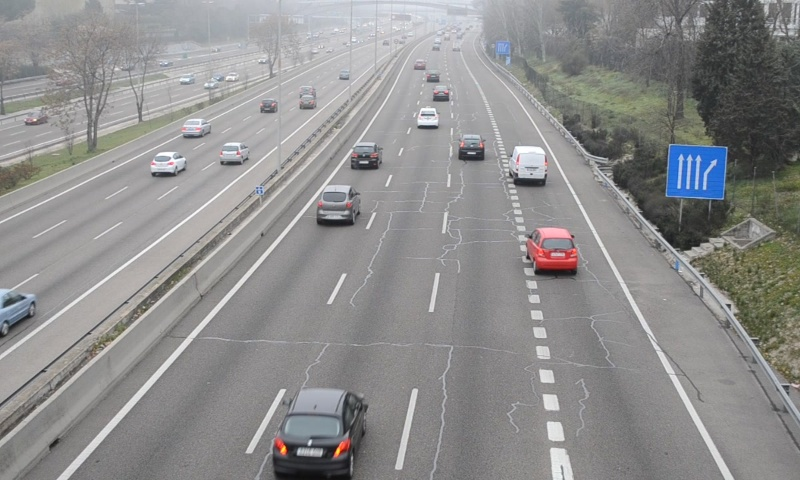car: (271, 389, 368, 478), (527, 226, 578, 270), (317, 184, 358, 220), (352, 142, 382, 170), (458, 133, 485, 160), (416, 105, 440, 129), (434, 84, 450, 100)
van: (512, 145, 548, 184)
